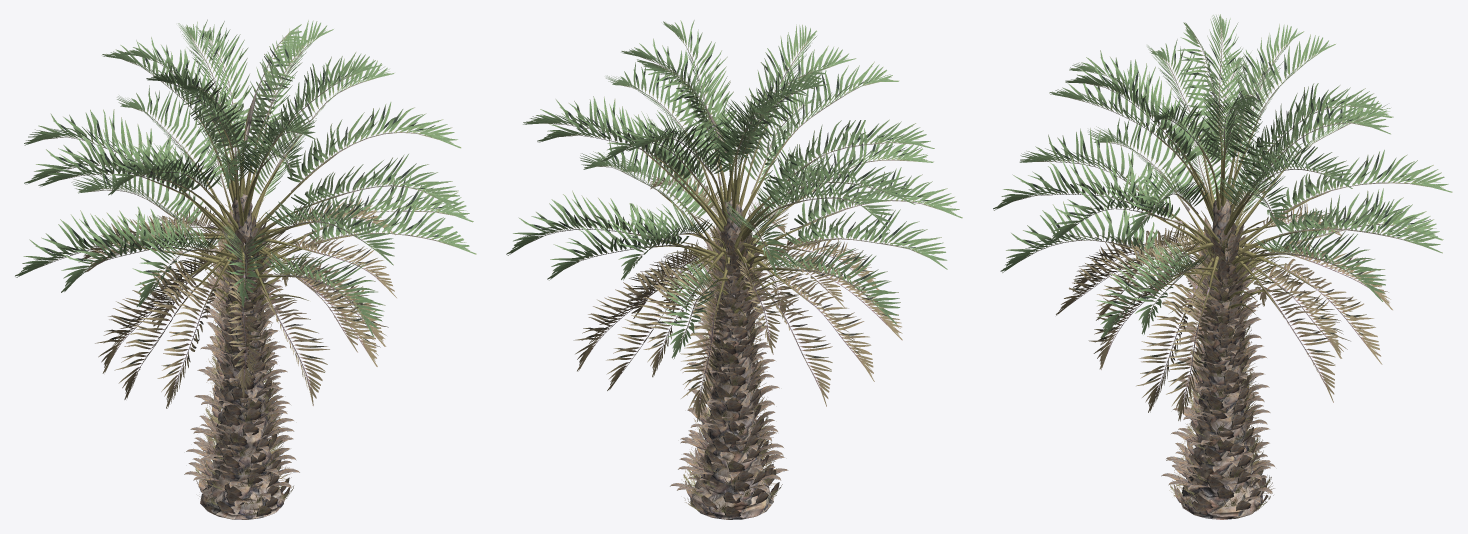
Rendered from realpalmtree.glb.
3 views of the same model, side by side, from view 1: azimuth 30°, elevation 25°; view 2: azimuth 150°, elevation 25°; view 3: azimuth 270°, elevation 25° (orthographic).
Parts seen in each view (by area): view 1: _1_HP_Palm3_Leaf_0, _1_HP_Palm3_Leaf_2_0, _1_HP_Palm3_Trunk_0; view 2: _1_HP_Palm3_Leaf_0, _1_HP_Palm3_Leaf_2_0, _1_HP_Palm3_Trunk_0; view 3: _1_HP_Palm3_Leaf_0, _1_HP_Palm3_Leaf_2_0, _1_HP_Palm3_Trunk_0.
Part boxes in pixels (box(x1,y1,x2,y2)): _1_HP_Palm3_Leaf_0: box(15, 19, 476, 408); _1_HP_Palm3_Leaf_2_0: box(134, 105, 352, 516); _1_HP_Palm3_Trunk_0: box(200, 194, 283, 519); _1_HP_Palm3_Leaf_0: box(506, 20, 962, 421); _1_HP_Palm3_Leaf_2_0: box(622, 118, 841, 516); _1_HP_Palm3_Trunk_0: box(690, 199, 773, 519); _1_HP_Palm3_Leaf_0: box(993, 14, 1452, 421); _1_HP_Palm3_Leaf_2_0: box(1109, 110, 1329, 514); _1_HP_Palm3_Trunk_0: box(1180, 198, 1263, 519).
Size of the model in its own units: 8.06 by 9 by 8.33.
Materials: 3 (3 with a texture image).
